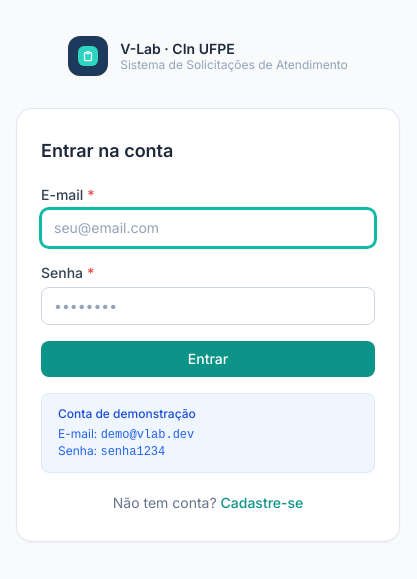
Test case: Login › limpa erro de campo ao redigitar
The width and height of the screenshot is (417, 579).
Step 1. Click the button "Entrar" → x=208, y=359, box [41,341,375,377]
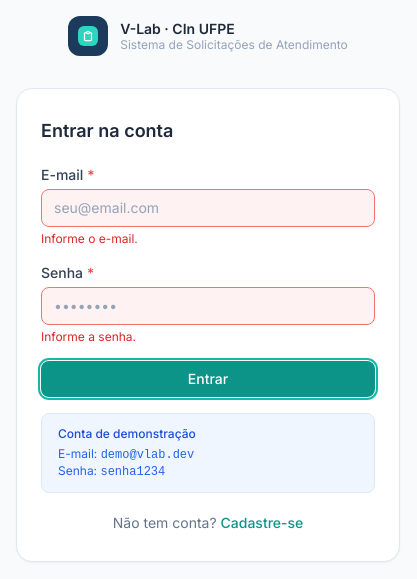
Expected: the text "Informe o e-mail." is shown, [41,231,138,246]
Step 2. Type "a" into the field with placeholder "seu@email.com" → x=208, y=208, box [41,189,375,227]
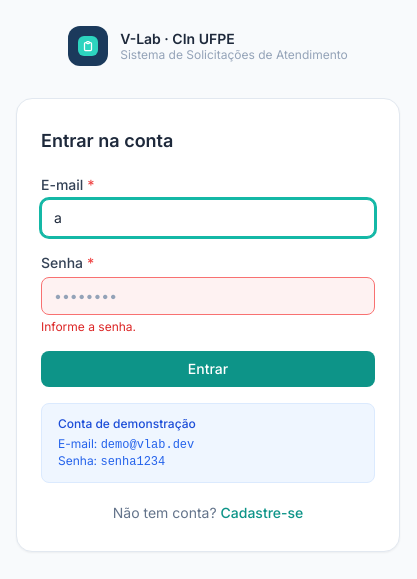
Expected: the text "Informe o e-mail." is gone
